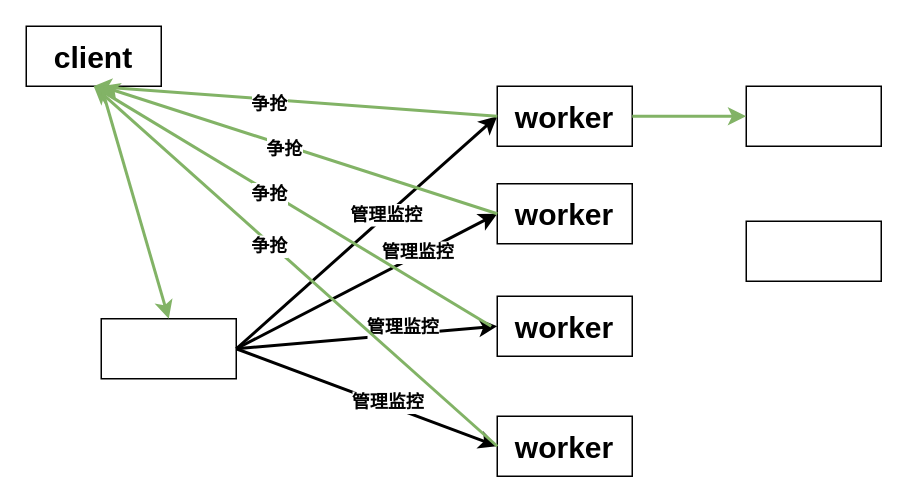
Image size: 908x503. Some labels were removed from this diagram. The shapes that lost their labels are listed below. From the top down, each one's centre as x and y in pixels, then its label:
At point (813, 115): "Tomcat1".
At point (813, 250): "Tomcat2".
At point (168, 348): "Master".
